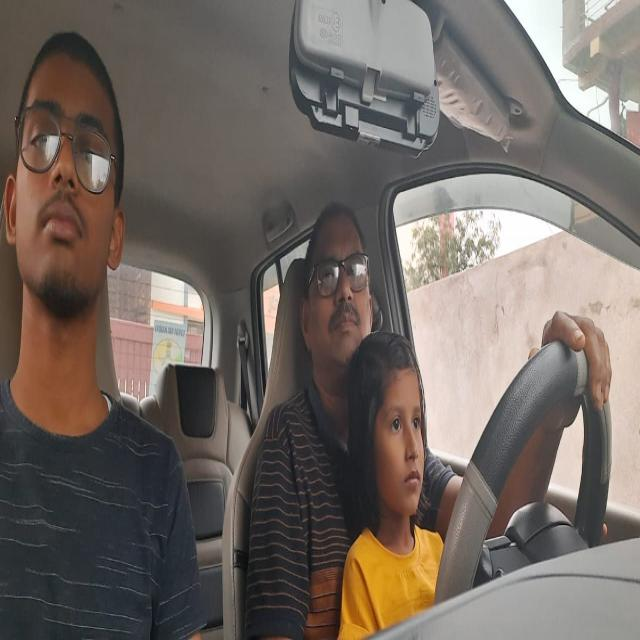child: (360, 352, 433, 528)
person: (5, 28, 125, 327), (304, 199, 368, 369)
